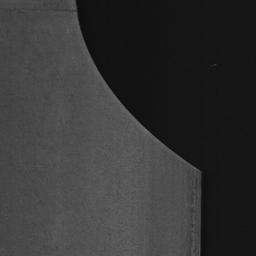Crescent gap: (76, 0, 201, 170)
